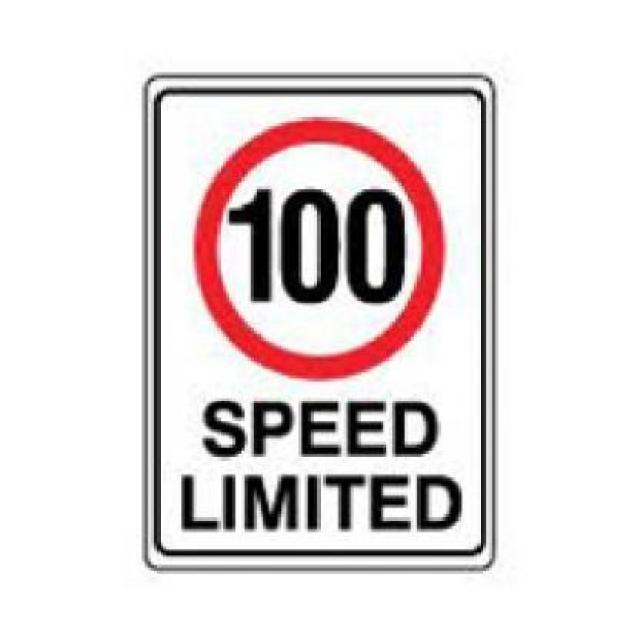forb_speed_over_100: (196, 119, 449, 381)
